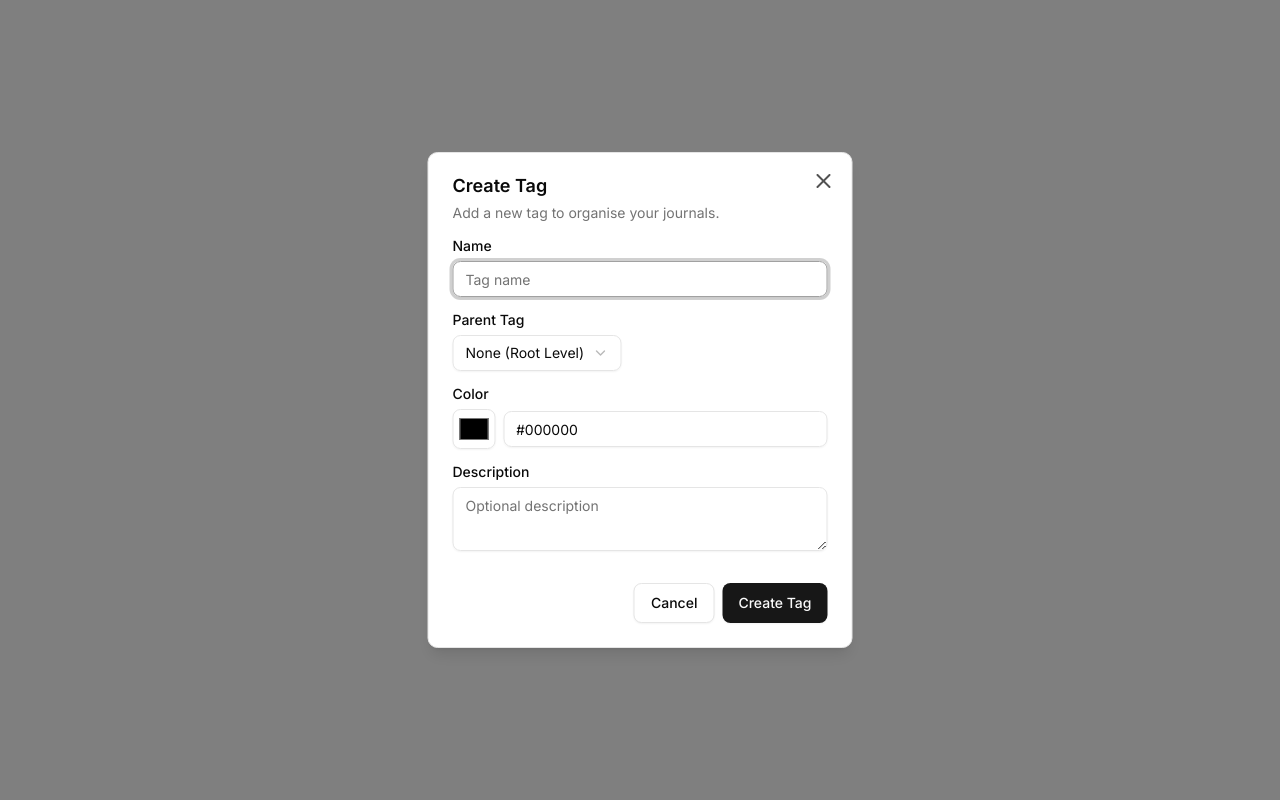
Test case: JournalCreateTagDialog › offers the existing journal tags as parents
Click the dropdown named "Parent Tag" at (537, 353), box [452,335,621,371]
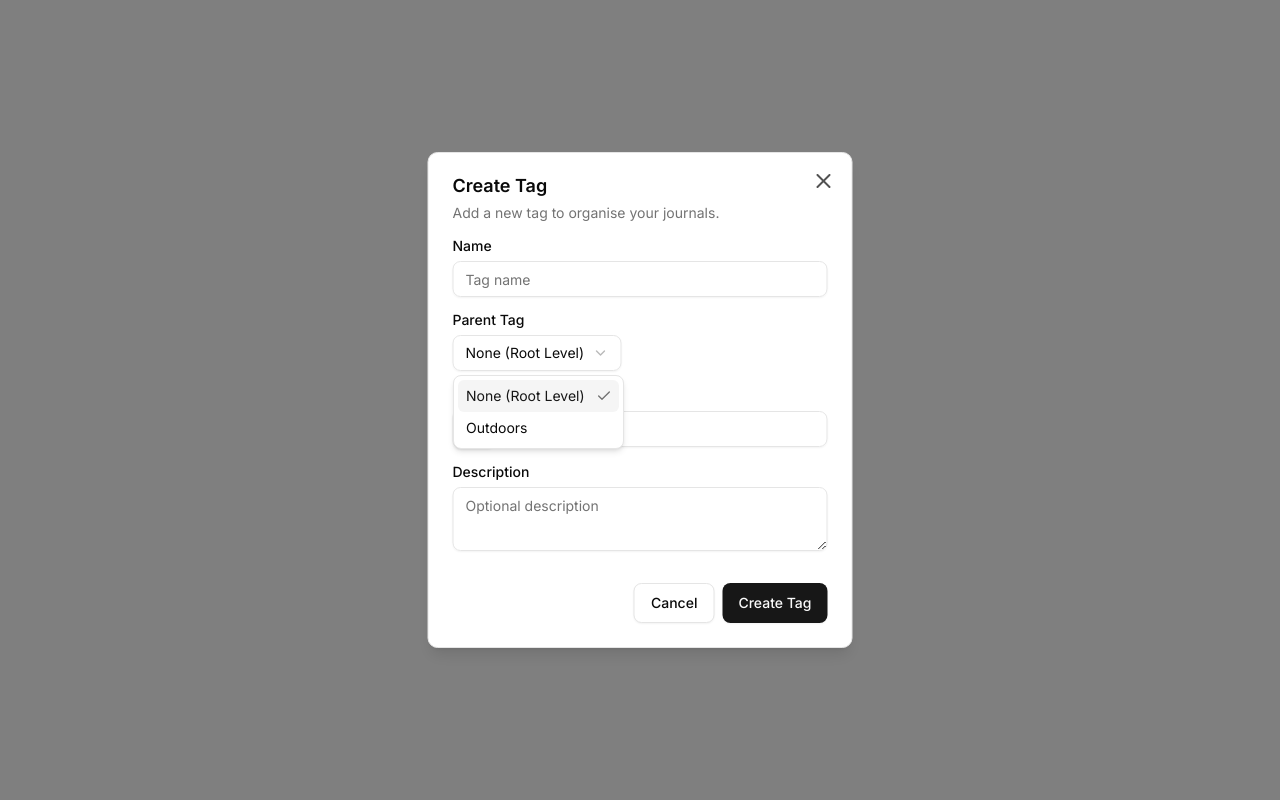
Expected: the option "Outdoors" is shown, [466,419,528,436]
